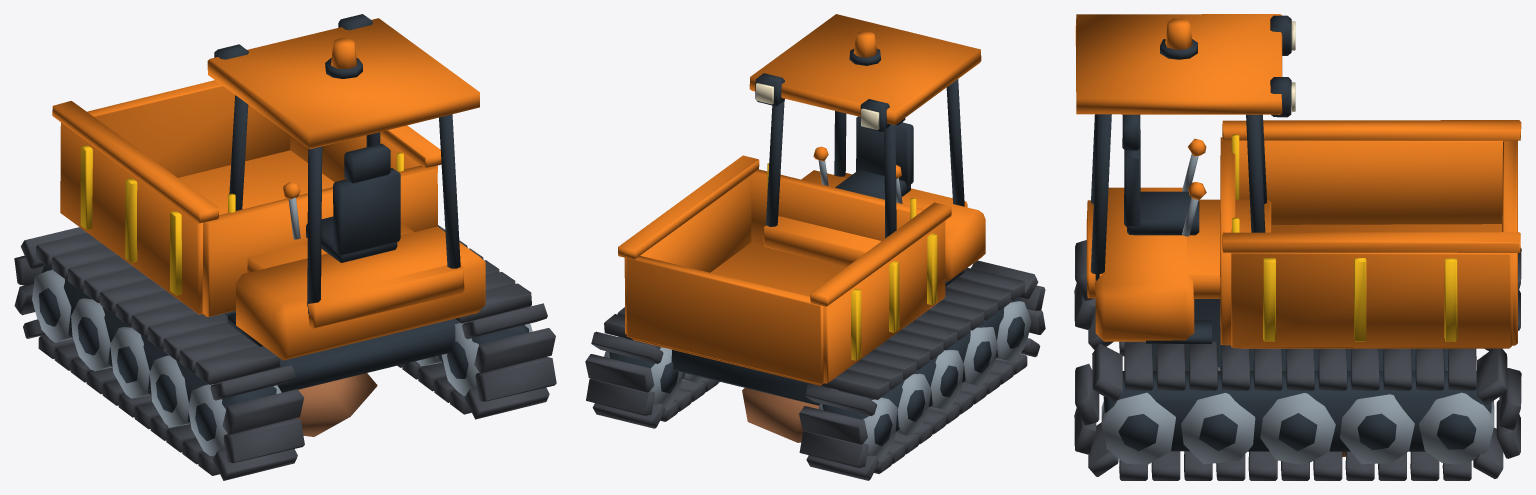
Rendered from dumper-low.glb.
The picture shows the model from 3 angles, left to right: view 1: azimuth 30°, elevation 25°; view 2: azimuth 150°, elevation 25°; view 3: azimuth 270°, elevation 25°; orthographic projection. The views are drawn at different scales.
Parts seen in each view (by area): view 1: end wall, cab sill.001, headlight housing.002, hub.010, track roller.010, side rib, material load.001, tread.073, tread.103, tread.072, tread.102, tread.070 (+17 smaller); view 2: end wall, cab sill.001, headlight housing.002, hub.010, track roller.010, side rib, material load.001, tread.118, tread.088, tread.117, tread.087, tread.119 (+17 smaller); view 3: end wall, cab sill.001, track roller.010, hub.010, headlight housing.002, side rib, tread.101, tread.119, tread.100, tread.099, tread.098, tread.097 (+29 smaller).
Boxes of the visible parts, <box> form: end wall: <box>52,80,441,317</box>; cab sill.001: <box>207,18,485,360</box>; headlight housing.002: <box>214,14,460,346</box>; hub.010: <box>39,265,528,440</box>; track roller.010: <box>32,269,532,456</box>; side rib: <box>80,145,182,295</box>; material load.001: <box>296,373,377,436</box>; tread.073: <box>223,418,304,463</box>; tread.103: <box>475,357,556,401</box>; tread.072: <box>222,389,304,433</box>; tread.102: <box>474,328,555,372</box>; tread.070: <box>195,346,280,384</box>; end wall: <box>618,155,951,385</box>; cab sill.001: <box>749,14,985,281</box>; headlight housing.002: <box>755,73,964,286</box>; hub.010: <box>609,297,1024,445</box>; track roller.010: <box>604,301,1031,458</box>; side rib: <box>851,233,937,360</box>; material load.001: <box>742,388,818,442</box>; tread.118: <box>585,354,654,392</box>; tread.088: <box>799,406,867,444</box>; tread.117: <box>586,378,654,415</box>; tread.087: <box>799,431,868,467</box>; tread.119: <box>591,331,663,363</box>; end wall: <box>1220,120,1521,348</box>; cab sill.001: <box>1075,14,1282,341</box>; track roller.010: <box>1101,367,1494,464</box>; hub.010: <box>1103,299,1491,451</box>; headlight housing.002: <box>1090,15,1291,343</box>; side rib: <box>1263,258,1457,341</box>; tread.101: <box>1092,343,1122,401</box>; tread.119: <box>1477,348,1507,404</box>; tread.100: <box>1124,342,1153,390</box>; tread.099: <box>1156,344,1185,390</box>; tread.098: <box>1189,341,1217,390</box>; tread.097: <box>1221,345,1250,390</box>.
Size of the model in its own units: 3.34 by 4.2 by 3.94.
